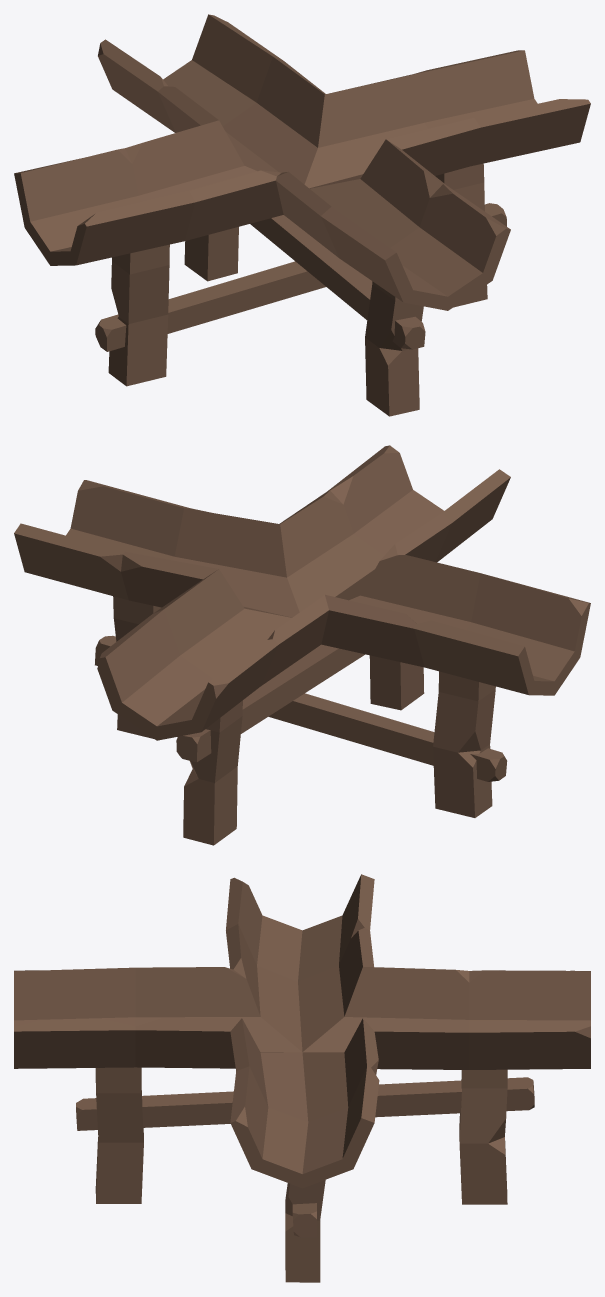
File: Pipe_4.fbx
3 views of the same model, one above another, from view 1: azimuth 30°, elevation 25°; view 2: azimuth 150°, elevation 25°; view 3: azimuth 270°, elevation 25° (orthographic).
Parts seen in each view (by area): view 1: 4; view 2: 4; view 3: 4.
Part boxes in pixels (x1,y1,x2,y2): 4: [14, 14, 590, 416]; 4: [14, 445, 590, 845]; 4: [14, 874, 590, 1282].
Bounding box in the file's own units: 2 × 0.7847 × 2.
